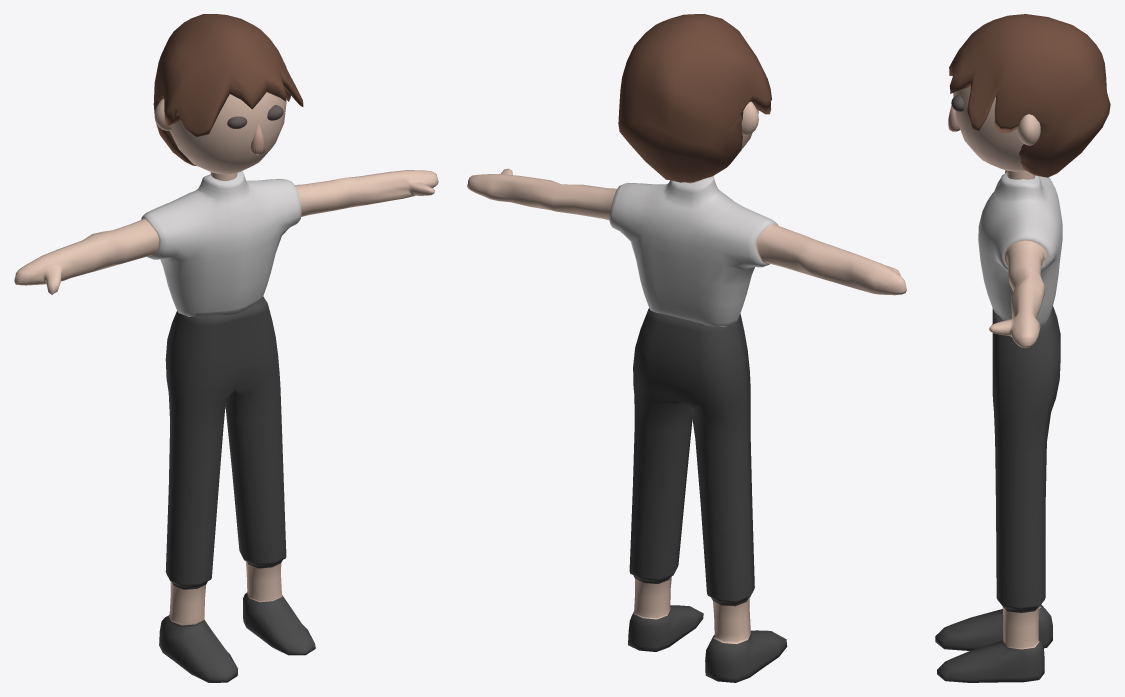
File: lobby boy.fbx
3 renders of one model, left to right at view 1: azimuth 30°, elevation 25°; view 2: azimuth 150°, elevation 25°; view 3: azimuth 270°, elevation 25°, orthographic. The views are drawn at different scales.
Parts seen in each view (by area): view 1: lobby_boy_legs, lobby_boy_body, lobby_boy_head; view 2: lobby_boy_legs, lobby_boy_body, lobby_boy_head; view 3: lobby_boy_legs, lobby_boy_head, lobby_boy_body.
Part boxes in pixels (bbox=[...]): lobby_boy_legs: bbox=[159, 296, 315, 682]; lobby_boy_body: bbox=[14, 170, 438, 316]; lobby_boy_head: bbox=[153, 14, 303, 180]; lobby_boy_legs: bbox=[628, 308, 787, 682]; lobby_boy_body: bbox=[467, 168, 906, 326]; lobby_boy_head: bbox=[618, 14, 771, 183]; lobby_boy_legs: bbox=[935, 306, 1060, 682]; lobby_boy_head: bbox=[948, 14, 1110, 179]; lobby_boy_body: bbox=[978, 170, 1062, 347].
Size of the model in its own units: 28.89 by 40.55 by 9.98.
